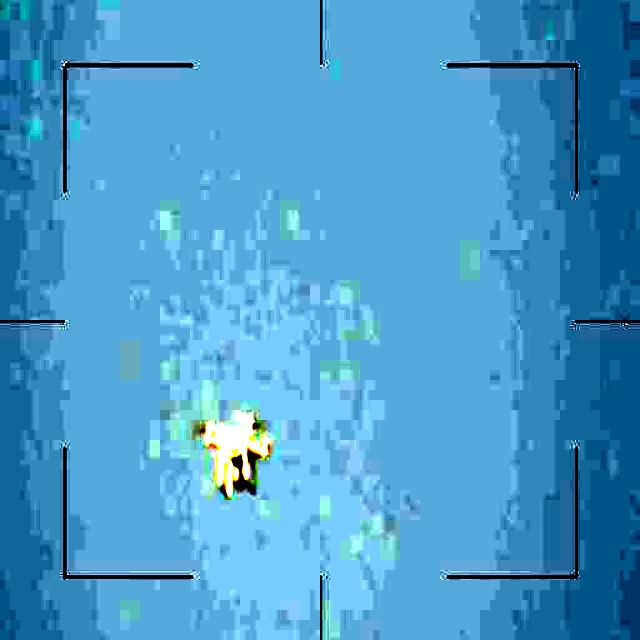bird: (191, 408, 278, 506)
